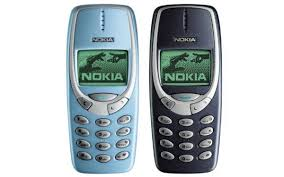nokia: (148, 4, 222, 177), (68, 4, 142, 177)
